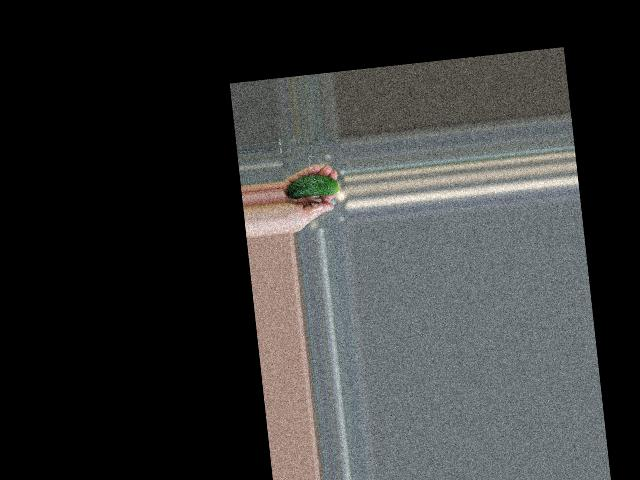cucumber: (285, 171, 338, 199)
